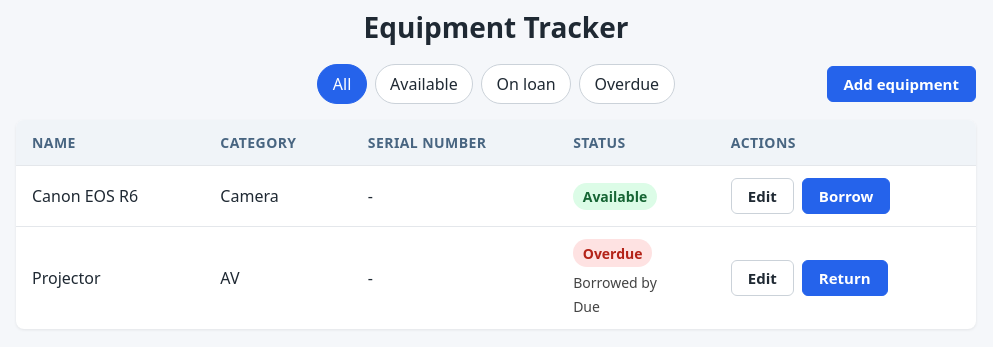
App equipment list › filters the list by availability
The width and height of the screenshot is (993, 347).
Expected: the text "Canon EOS R6" is shown, [16,166,204,227]
Click the button "Overdue" at (627, 84), box [579,64,675,104]
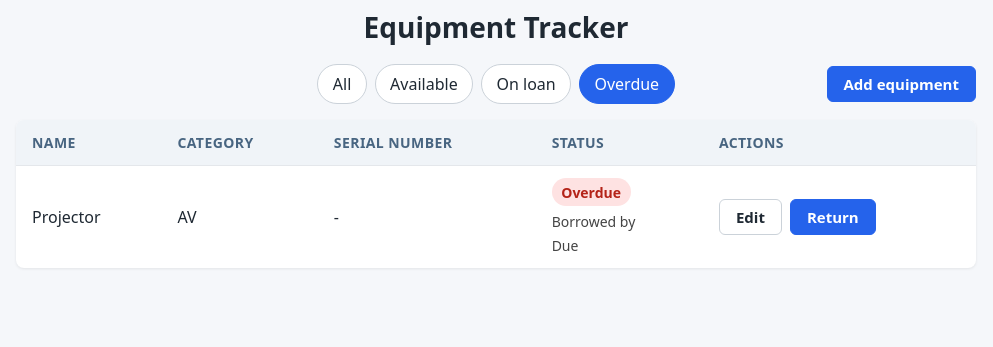
Expected: the text "Projector" is shown, [16,166,161,268]
Expected: the text "Canon EOS R6" is gone
